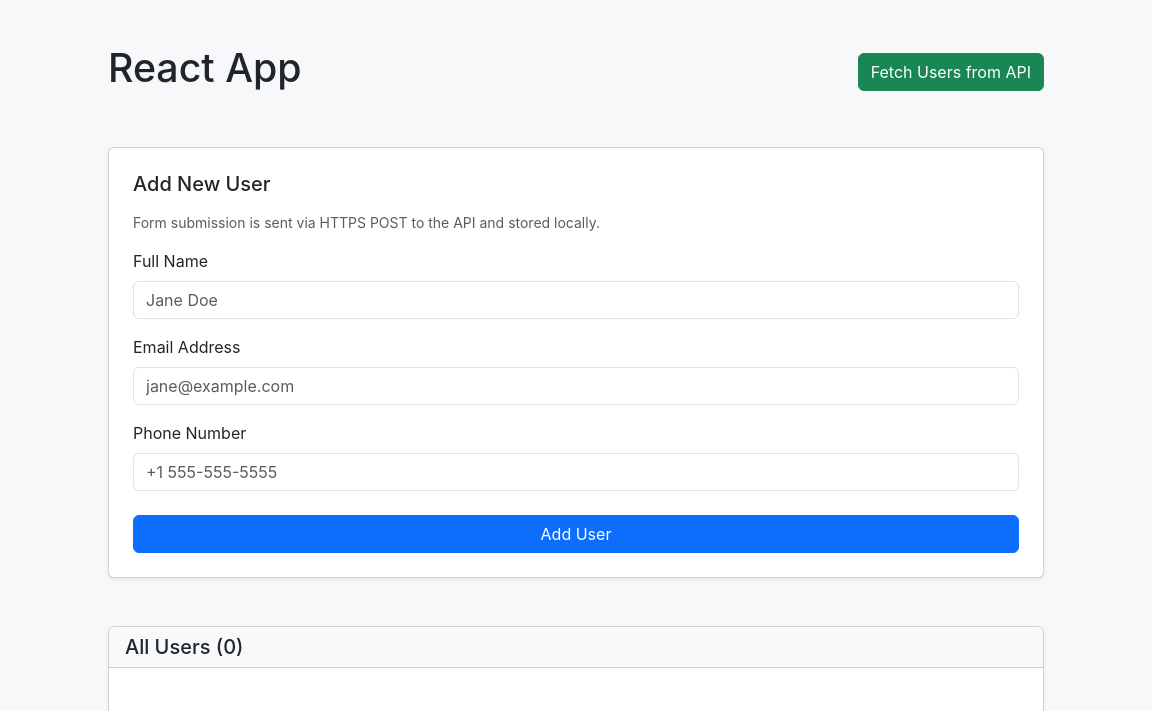
Scenario: fetches API users when clicking Fetch Users from API
Click the button "Fetch Users from API": (951, 72) x1=858 y1=53 x2=1044 y2=91
(page scrolled)
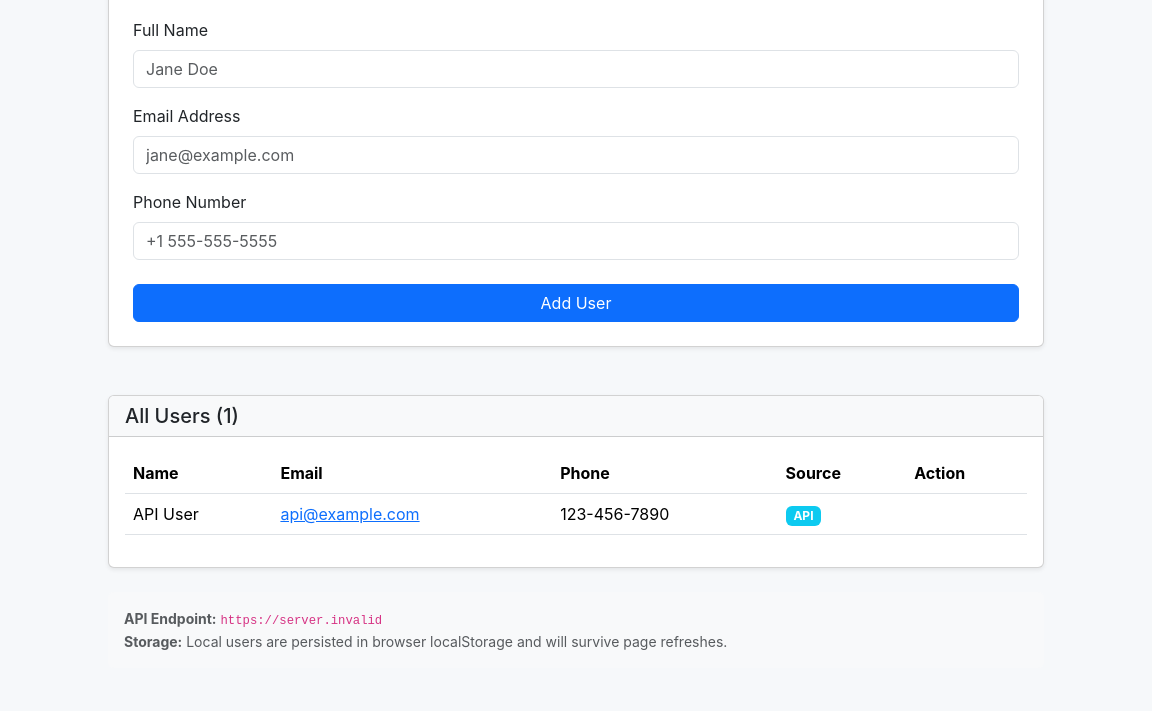
Expected: the text "API User" is shown, x1=125 y1=494 x2=272 y2=535
